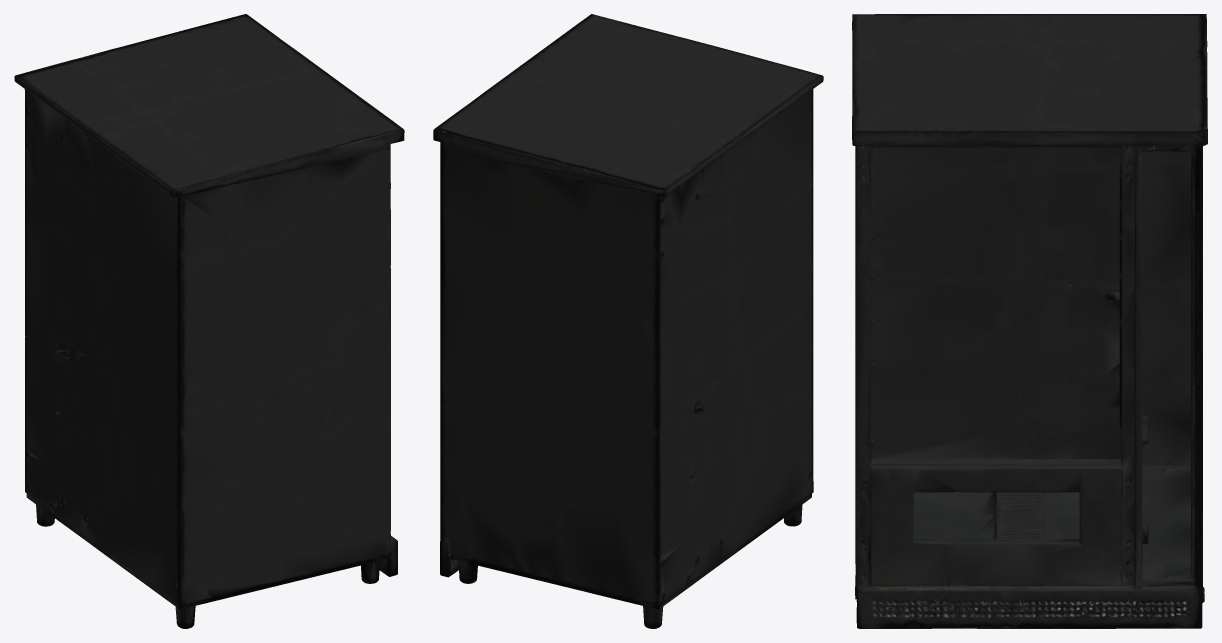
File: main_cabinet.glb
3 views of the same model, side by side, from view 1: azimuth 30°, elevation 25°; view 2: azimuth 150°, elevation 25°; view 3: azimuth 270°, elevation 25° (orthographic). The views are drawn at different scales.
Parts seen in each view (by area): view 1: tripo_node_2eaf94d7-28ab-4e4d-a146-15a9d1265441; view 2: tripo_node_2eaf94d7-28ab-4e4d-a146-15a9d1265441; view 3: tripo_node_2eaf94d7-28ab-4e4d-a146-15a9d1265441.
Part boxes in pixels (x1=…): tripo_node_2eaf94d7-28ab-4e4d-a146-15a9d1265441: x1=14, y1=14, x2=404, y2=628; tripo_node_2eaf94d7-28ab-4e4d-a146-15a9d1265441: x1=433, y1=14, x2=823, y2=628; tripo_node_2eaf94d7-28ab-4e4d-a146-15a9d1265441: x1=852, y1=14, x2=1207, y2=628.
Size of the model in its own units: 0.538 by 0.9998 by 0.6382.
Materials: 1 (1 with a texture image).
